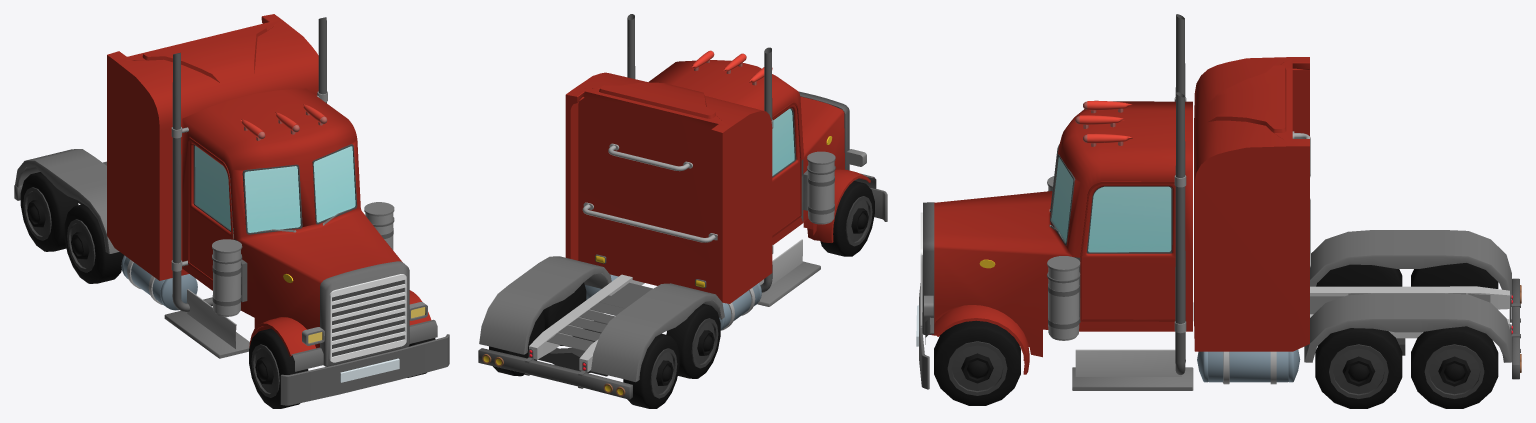
File: Truck_3.fbx
The picture shows the model from 3 angles, left to right: view 1: azimuth 30°, elevation 25°; view 2: azimuth 150°, elevation 25°; view 3: azimuth 270°, elevation 25°; orthographic projection. The views are drawn at different scales.
Visible parts, largest first — view 1: Box054, Object046, R3_059, R3_058, R3_057; view 2: Box054, Object046, R3_058, R3_059, R3_057, R3_055, R3_056; view 3: Box054, Object046, R3_054, R3_056, R3_055, R3_059, R3_058.
Part boxes in pixels (bbox=[...]): Box054: bbox=[107, 14, 449, 405]; Object046: bbox=[14, 149, 197, 310]; R3_059: bbox=[20, 172, 78, 251]; R3_058: bbox=[64, 204, 123, 283]; R3_057: bbox=[249, 328, 308, 408]; Box054: bbox=[565, 14, 887, 306]; Object046: bbox=[478, 256, 761, 399]; R3_058: bbox=[666, 303, 720, 378]; R3_059: bbox=[623, 333, 679, 408]; R3_057: bbox=[820, 181, 874, 256]; R3_055: bbox=[542, 282, 586, 345]; R3_056: bbox=[489, 311, 544, 376]; Box054: bbox=[916, 14, 1310, 390]; Object046: bbox=[1197, 230, 1521, 384]; R3_054: bbox=[934, 320, 1020, 405]; R3_056: bbox=[1411, 326, 1498, 408]; R3_055: bbox=[1315, 328, 1402, 408]; R3_059: bbox=[1411, 263, 1498, 288]; R3_058: bbox=[1316, 264, 1402, 286].
Bounding box in the file's own units: 3208 × 4801 × 8409.
